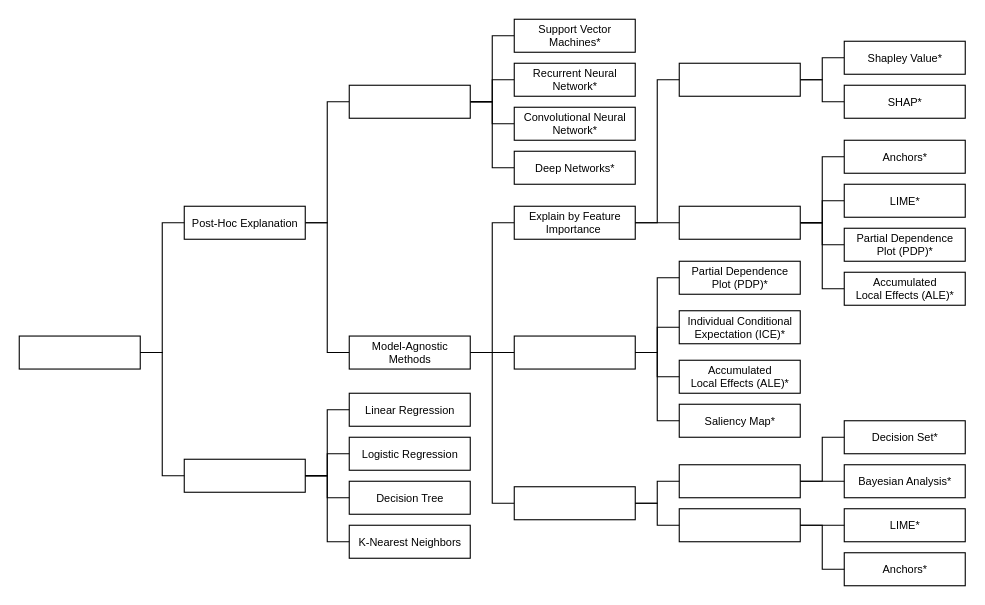
The diagram is 985 pixels wide and 605 high, and some of its shapes have lost their labels. Each missing label, with the centre of its shape:
"Additional Interpretable Model" belongs at (739,525).
"Build Interpretable Model" belongs at (244,475).
"Explain by Simplification" belongs at (574,503).
"Explain by Visualization" belongs at (574,352).
"Explainable AI" belongs at (79,352).
"Feature Masking" belongs at (739,79).
"Feature Mutation" belongs at (739,222).
"Model-Specific Methods" belongs at (409,101).
"Rule-based Learner" belongs at (739,481).
